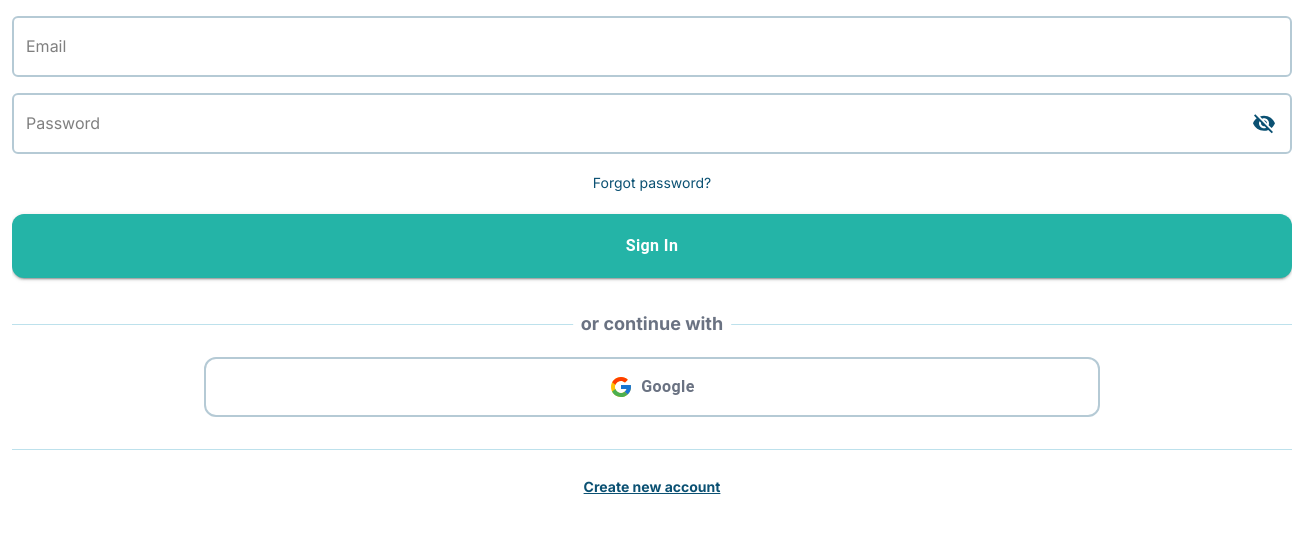
Test: SignInForm Component › Form Validation › shows an error when email format is invalid
This screenshot has width=1304, height=543.
Type "invalid-email" into the field with placeholder "Email". click: (652, 46)
box: x1=12 y1=16 x2=1292 y2=77
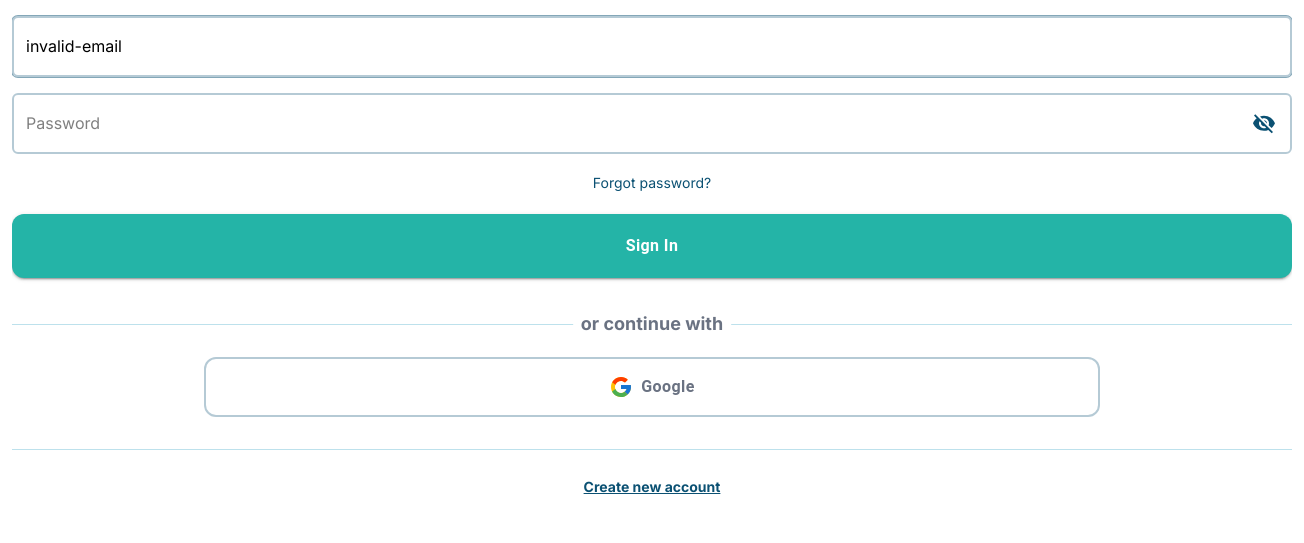
Click the button "Sign In". click: click(652, 246)
box: x1=12 y1=214 x2=1292 y2=278
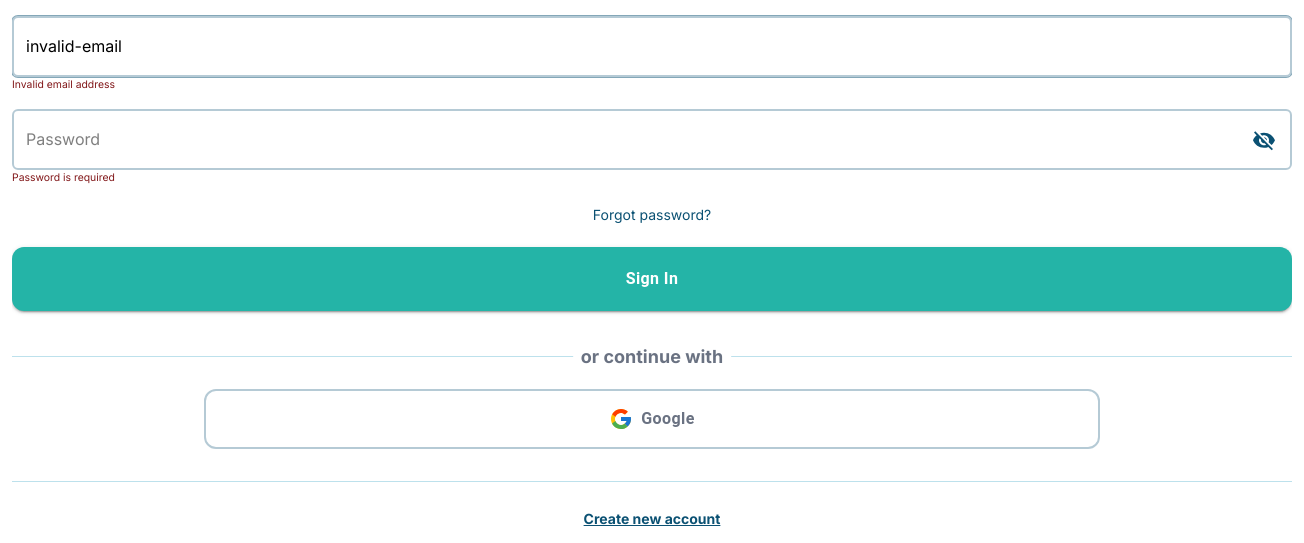
Now the text "Invalid email address" is shown, box x1=12 y1=78 x2=115 y2=91
